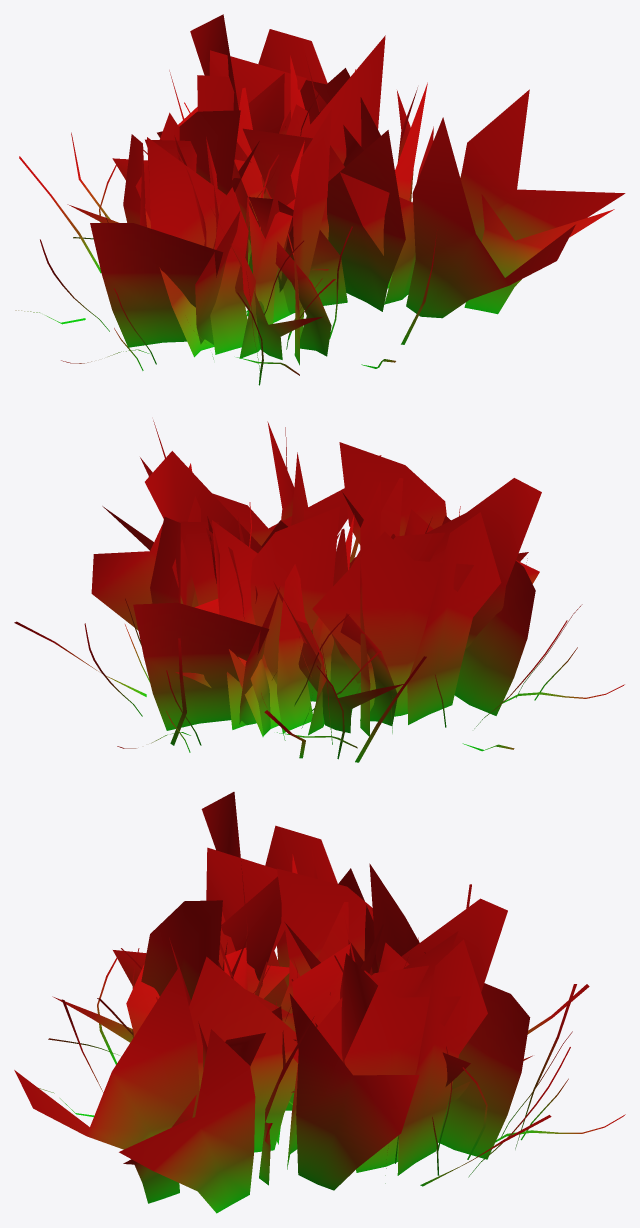
Rendered from Tundra Grass_LOD4_Var31_wk2oaeyqx.fbx.
The picture shows the model from 3 angles, top to bottom: view 1: azimuth 30°, elevation 25°; view 2: azimuth 150°, elevation 25°; view 3: azimuth 270°, elevation 25°; orthographic projection. The views are drawn at different scales.
Visible parts, largest first — view 1: _4351_Var31_LOD4; view 2: _4351_Var31_LOD4; view 3: _4351_Var31_LOD4.
Boxes of the visible parts, x1,y1,x2,y2 form: _4351_Var31_LOD4: [15, 14, 625, 385]; _4351_Var31_LOD4: [14, 420, 624, 762]; _4351_Var31_LOD4: [14, 792, 625, 1213].
Bounding box in the file's own units: 47.59 × 19.51 × 43.88.
